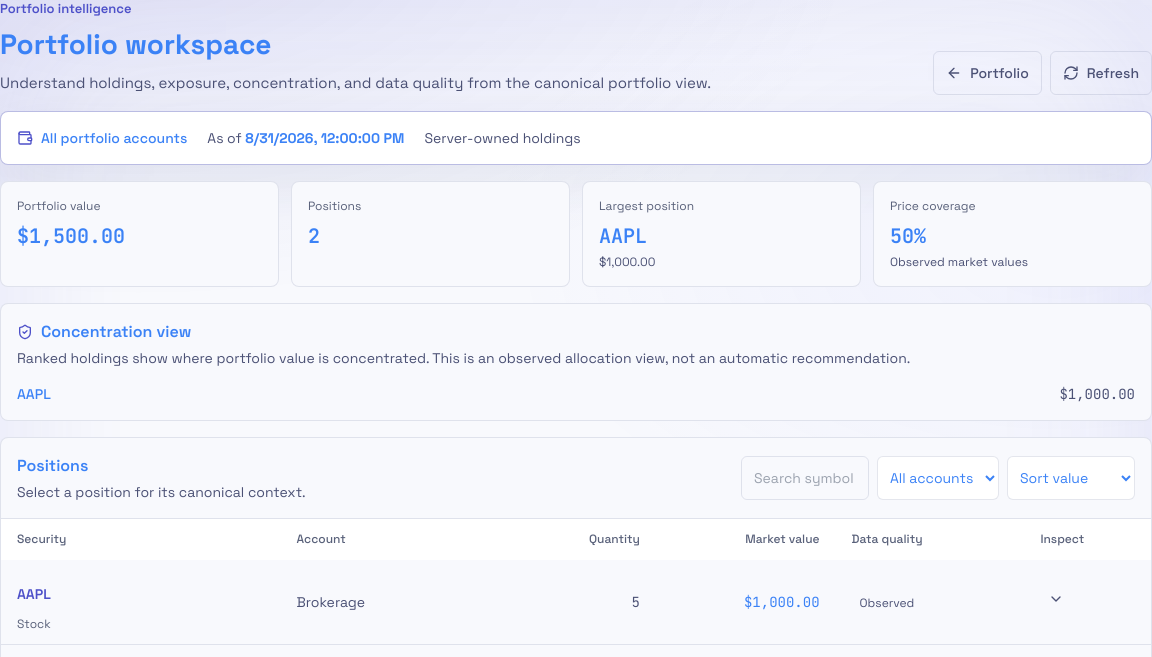
it: Portfolio Intelligence UI-04 › filters positions and opens a security context drawer
Expected: the button "AAPL" is shown, x1=17 y1=572 x2=51 y2=616
Step 1. Type "missing" into the field named "Search holdings" → (805, 478), box x1=741 y1=456 x2=869 y2=500
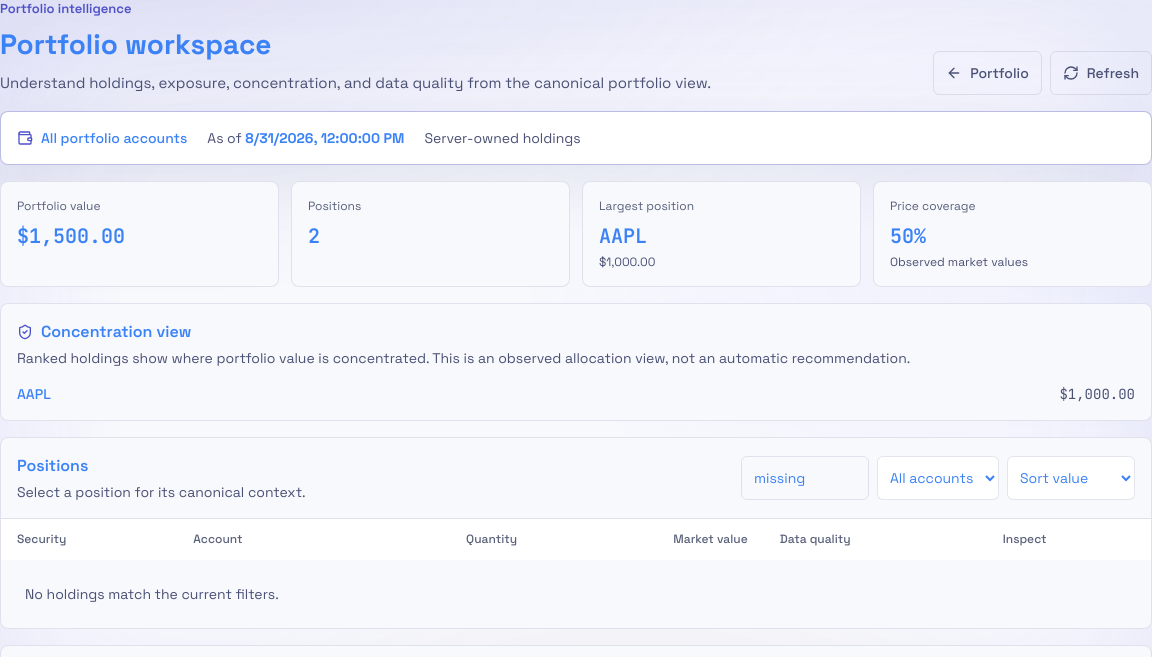
Result: the text "No holdings match the current filters." is shown at x1=25 y1=584 x2=279 y2=602
Step 2. Replace the text in the field named "Search holdings" with "aapl" → (805, 478), box x1=741 y1=456 x2=869 y2=500
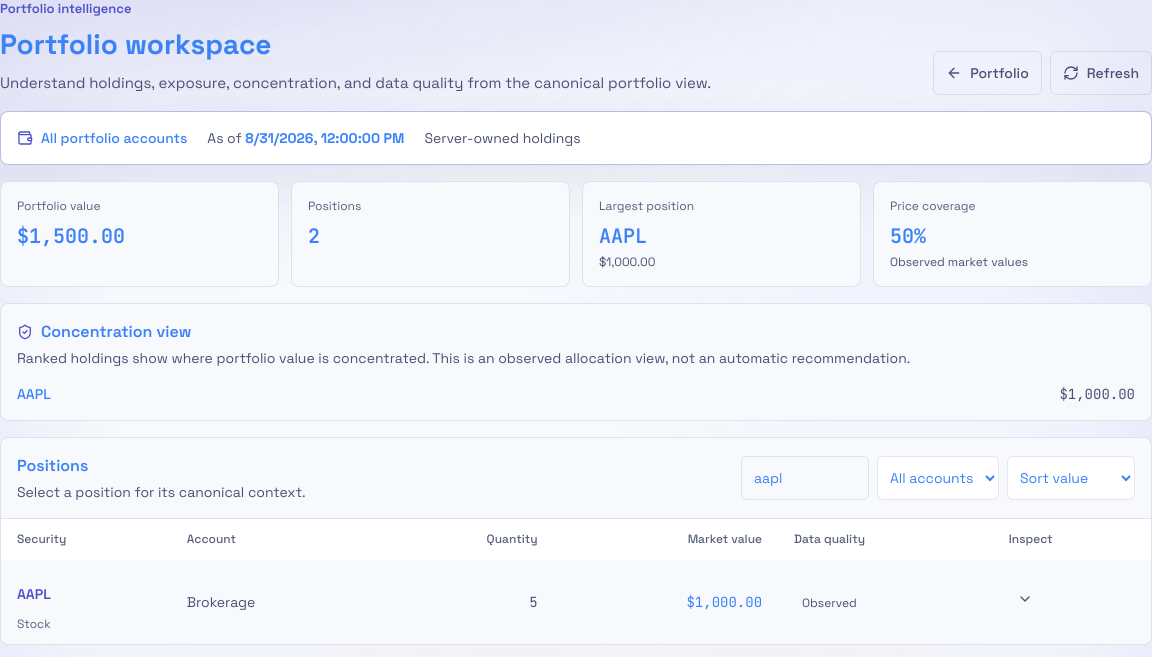
Step 3. Click the button "AAPL" → (34, 594), box x1=17 y1=572 x2=51 y2=616
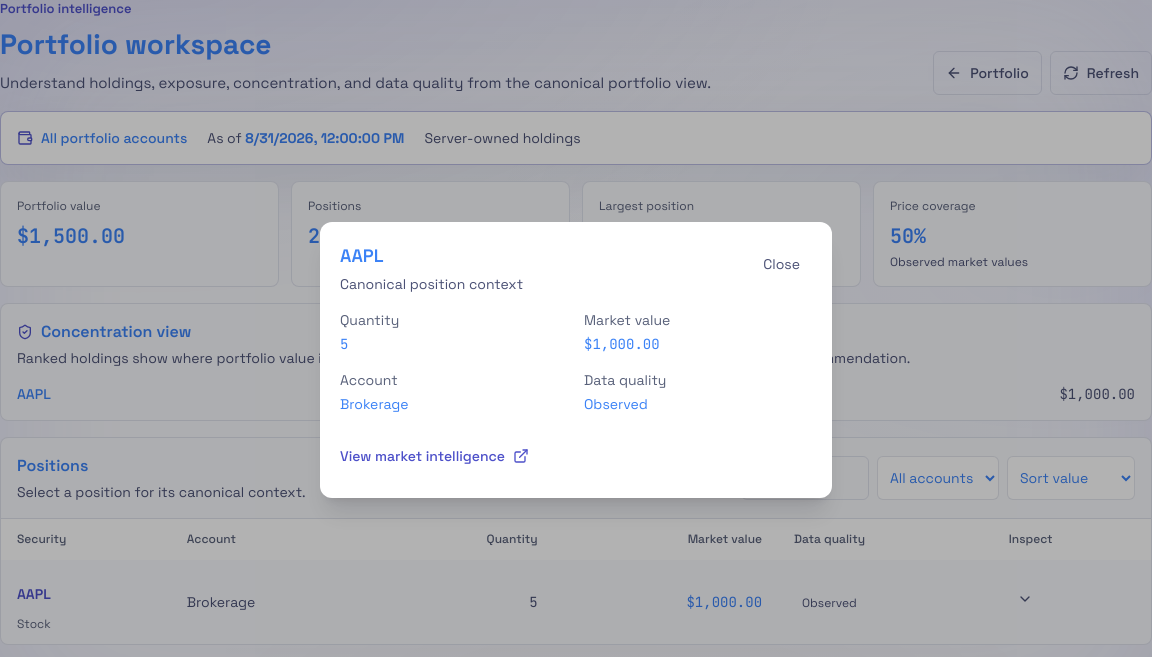
Result: the dialog shows "Canonical position context" at x1=340 y1=275 x2=523 y2=293
